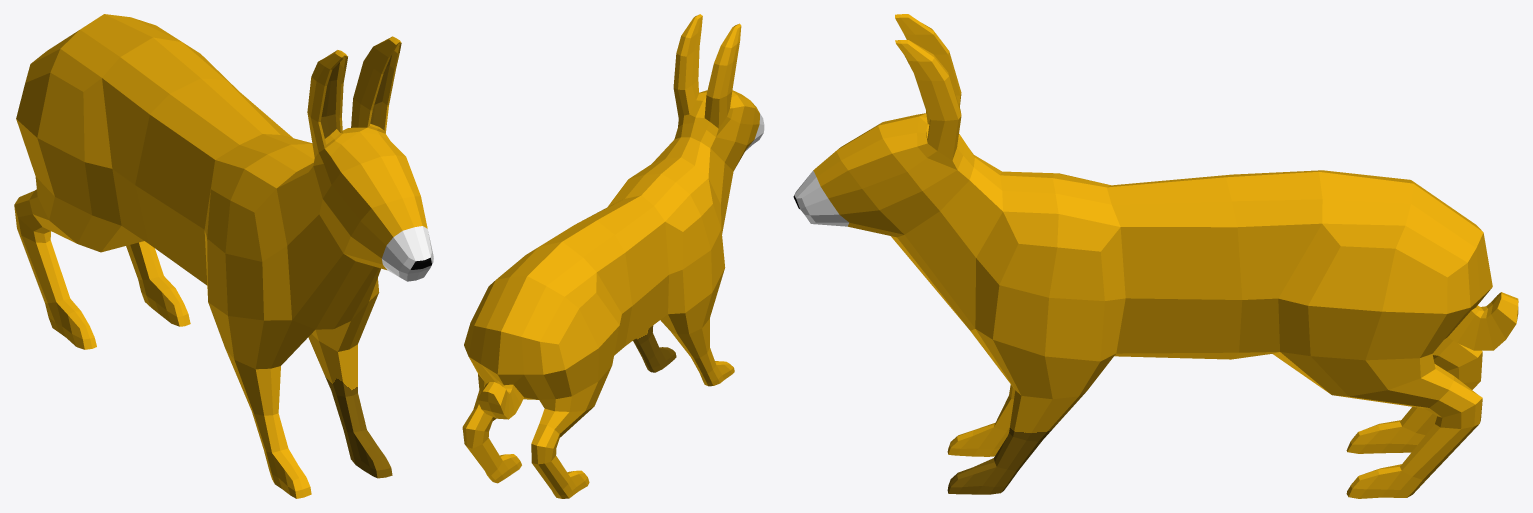
Rendered from rabbit.fbx.
3 views of the same model, side by side, from view 1: azimuth 30°, elevation 25°; view 2: azimuth 150°, elevation 25°; view 3: azimuth 270°, elevation 25° (orthographic). The views are drawn at different scales.
Visible parts, largest first — view 1: Rabbit; view 2: Rabbit; view 3: Rabbit.
Boxes of the visible parts, left/top/right/bottom form: Rabbit: left=14, top=14, right=433, bottom=498; Rabbit: left=462, top=14, right=764, bottom=498; Rabbit: left=793, top=14, right=1518, bottom=498.
Size of the model in its own units: 14.47 by 38.33 by 56.52.
Materials: 1 (1 with a texture image).
